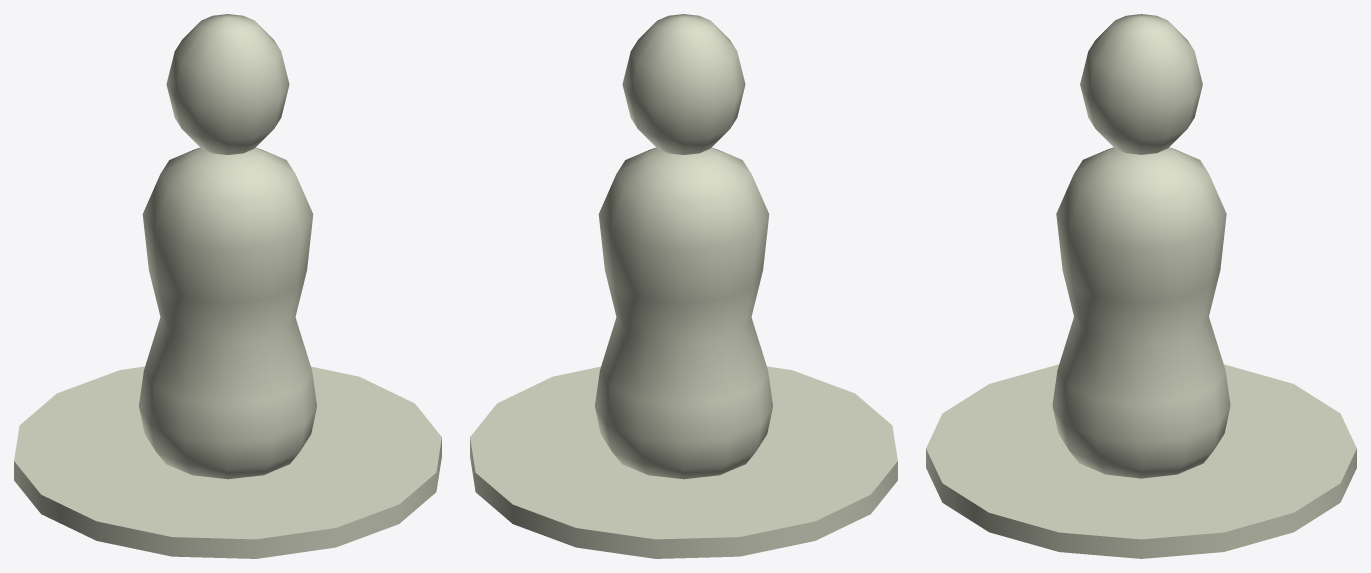
Rendered from statue.fbx.
3 views of the same model, side by side, from view 1: azimuth 30°, elevation 25°; view 2: azimuth 150°, elevation 25°; view 3: azimuth 270°, elevation 25° (orthographic).
Parts seen in each view (by area): view 1: platform_geo, body_geo, head_geo; view 2: platform_geo, body_geo, head_geo; view 3: platform_geo, body_geo, head_geo.
Part boxes in pixels (x1,y1,x2,y2): platform_geo: (14,366,441,558); body_geo: (139,147,316,479); head_geo: (166,14,289,154); platform_geo: (470,366,897,558); body_geo: (595,147,772,479); head_geo: (622,14,745,154); platform_geo: (926,364,1356,558); body_geo: (1052,147,1230,478); head_geo: (1080,14,1202,154).
Bounding box in the file's own units: 6.92 × 7.97 × 6.92.
